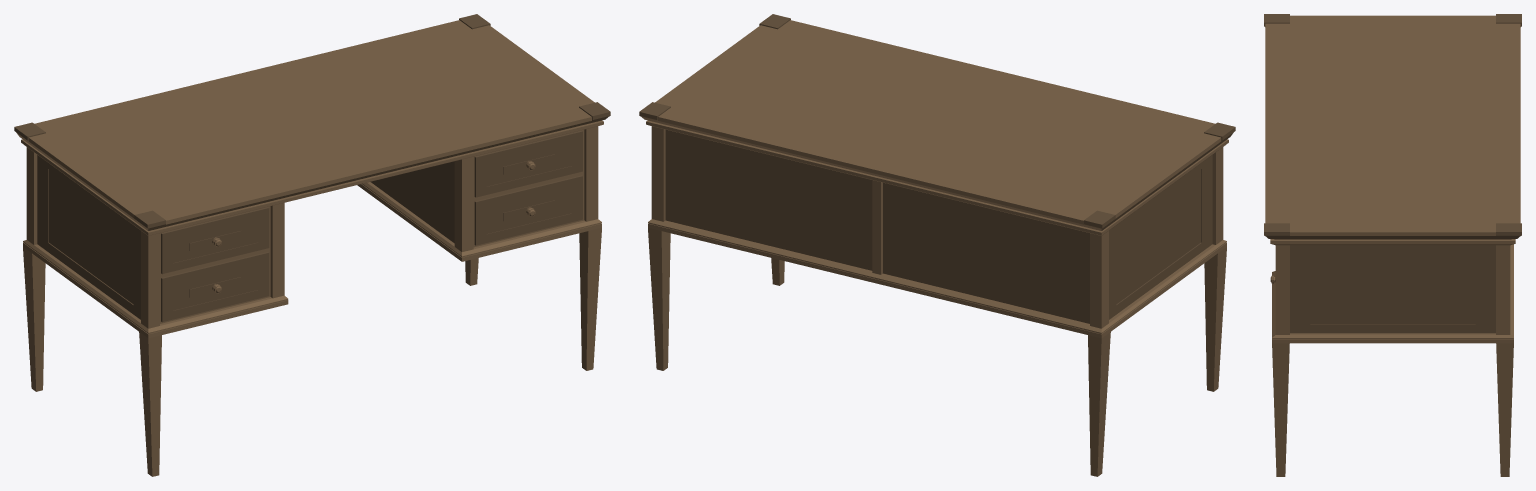
File: furn-desk-rectangular.glb
3 views of the same model, side by side, from view 1: azimuth 30°, elevation 25°; view 2: azimuth 150°, elevation 25°; view 3: azimuth 270°, elevation 25° (orthographic). The views are drawn at different scales.
Visible parts, largest first — view 1: Desk, Desk_Drawer2, Desk_Drawer4, Desk_Drawer1, Desk_Drawer3; view 2: Desk; view 3: Desk.
Boxes of the visible parts, x1,y1,x2,y2 form: Desk: (14, 14, 610, 476); Desk_Drawer2: (474, 175, 582, 245); Desk_Drawer4: (161, 252, 269, 322); Desk_Drawer1: (474, 130, 582, 197); Desk_Drawer3: (161, 207, 269, 273); Desk: (639, 14, 1235, 476); Desk: (1264, 14, 1521, 476).
Bounding box in the file's own units: 1.4 × 0.75 × 0.7.
